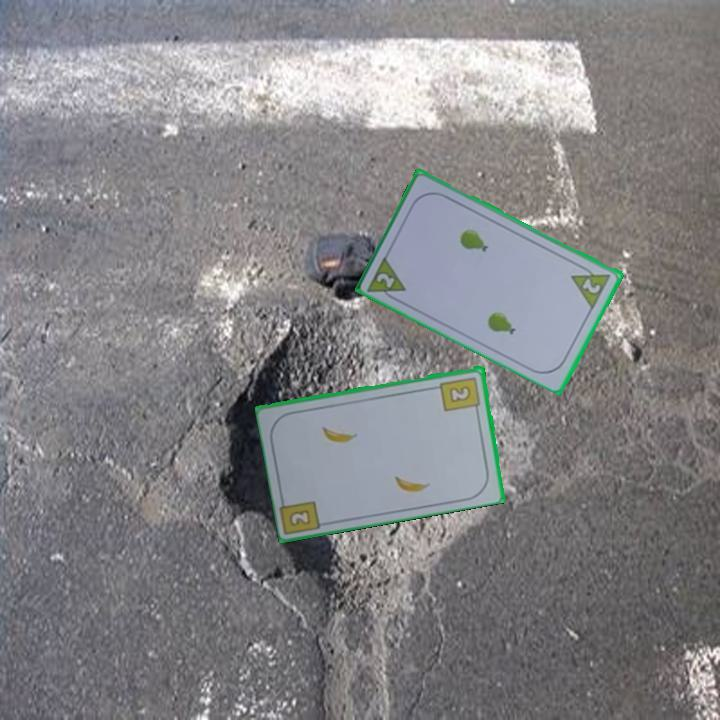2b: (437, 373, 483, 415), (285, 506, 314, 529)
2p: (364, 252, 409, 306), (568, 260, 614, 311)
